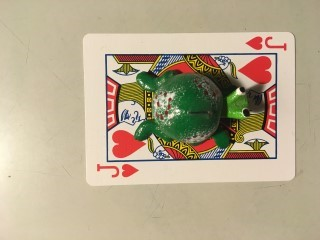JackOfHearts: (83, 31, 296, 184)
